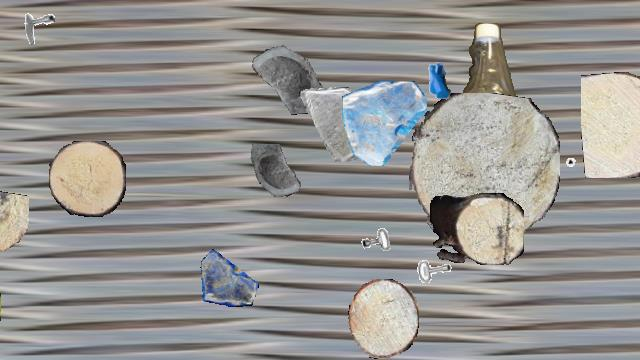glass: (342, 81, 426, 165), (242, 32, 324, 114), (298, 87, 372, 161), (247, 144, 309, 206), (200, 248, 258, 306)
metal: (347, 195, 407, 255), (410, 51, 466, 107), (414, 255, 460, 301), (13, 2, 55, 44), (562, 156, 602, 196)
plastic: (442, 23, 524, 221), (0, 221, 1, 337)
wood: (409, 93, 559, 245), (430, 193, 524, 265), (581, 72, 640, 178), (49, 141, 125, 217), (348, 279, 418, 359), (0, 189, 29, 253)
